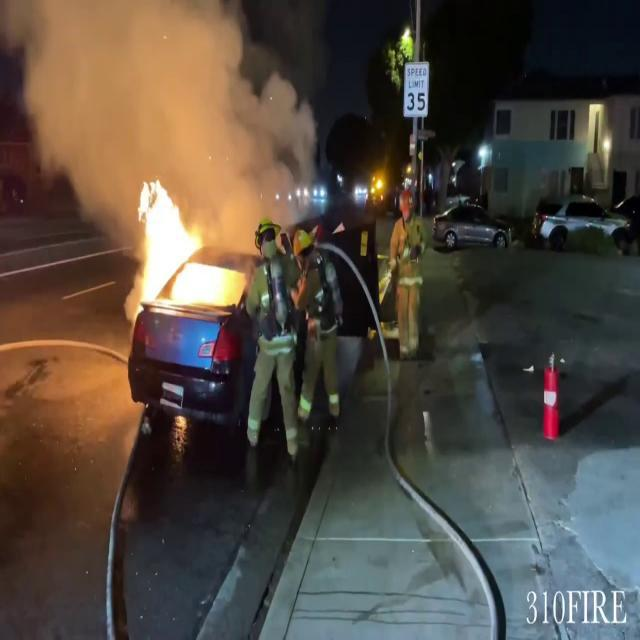Fire: (119, 174, 242, 315)
Smoke: (0, 1, 324, 213)
